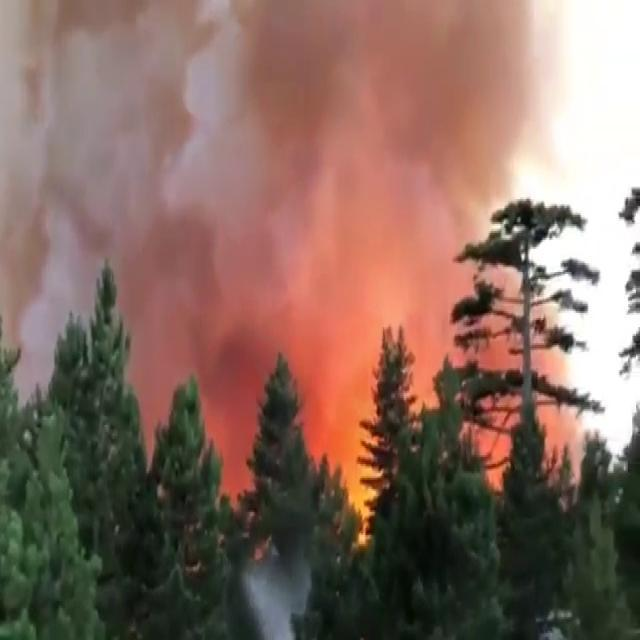Fire: (312, 365, 390, 502)
Smoke: (2, 27, 328, 318), (302, 9, 560, 262)
